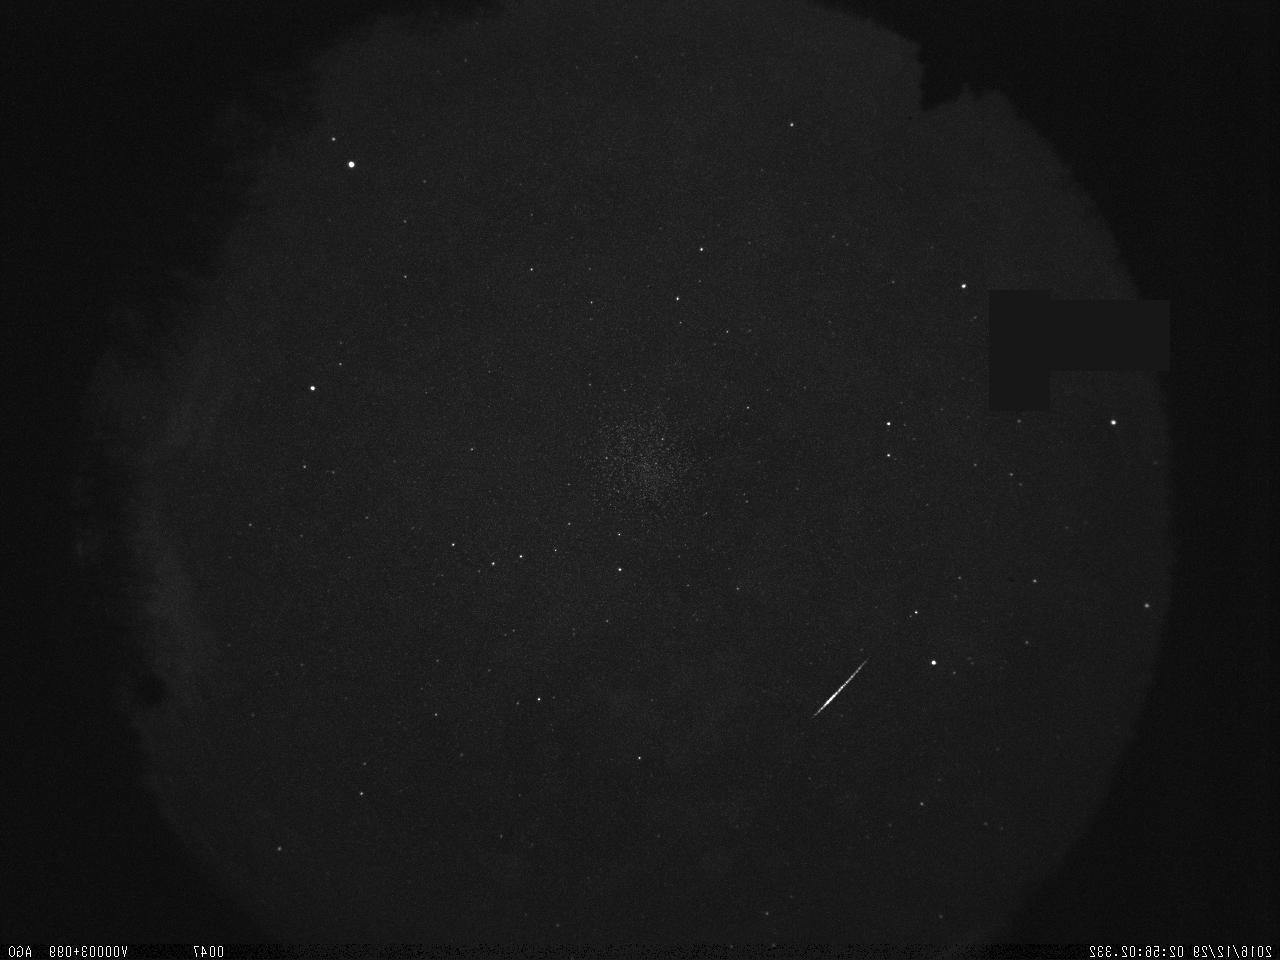meteor: (778, 644, 889, 745)
